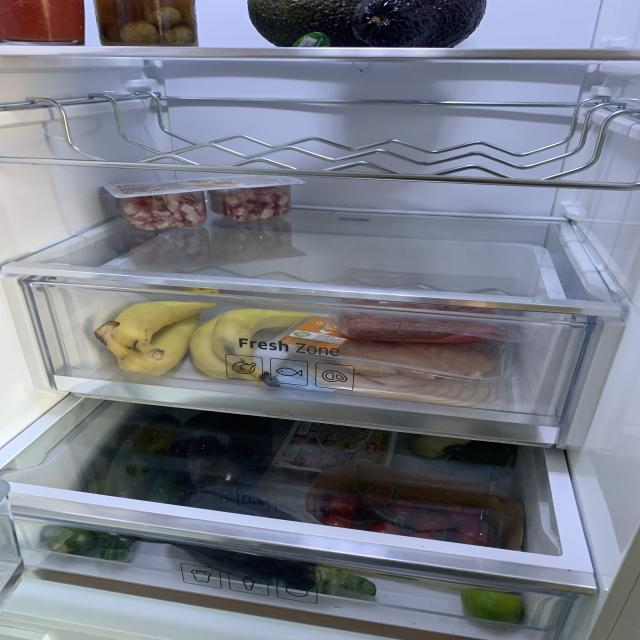aubergine: (178, 489, 376, 596), (184, 411, 271, 491)
avocado: (356, 0, 493, 51), (246, 0, 364, 46)
bacon: (121, 192, 203, 229), (218, 186, 290, 220)
banana: (100, 297, 208, 379), (192, 316, 298, 386)
cherry_tomato: (323, 489, 493, 546)
chicken_breast: (337, 341, 496, 378)
courgettes: (49, 414, 178, 559), (407, 431, 513, 466)
ground_beef: (344, 311, 486, 340)
ham: (304, 362, 496, 408)
lime: (459, 588, 523, 622)
olives: (93, 0, 197, 48)
tomato_sauce: (0, 0, 87, 48)
